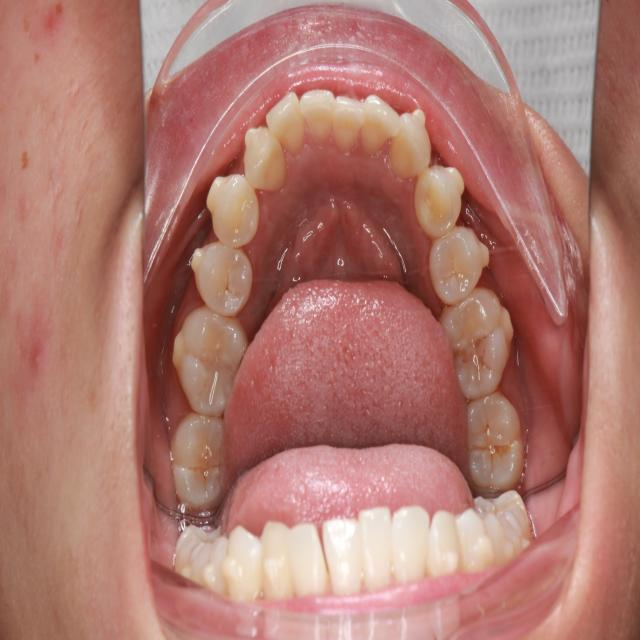tooth: (434, 281, 523, 406), (168, 301, 254, 427), (156, 396, 234, 521), (461, 384, 532, 498), (180, 231, 263, 319), (405, 150, 474, 249), (424, 219, 495, 310), (201, 168, 265, 251), (258, 81, 316, 170), (234, 114, 296, 194), (389, 97, 436, 196), (357, 74, 402, 166), (292, 69, 340, 153), (326, 77, 372, 164)
